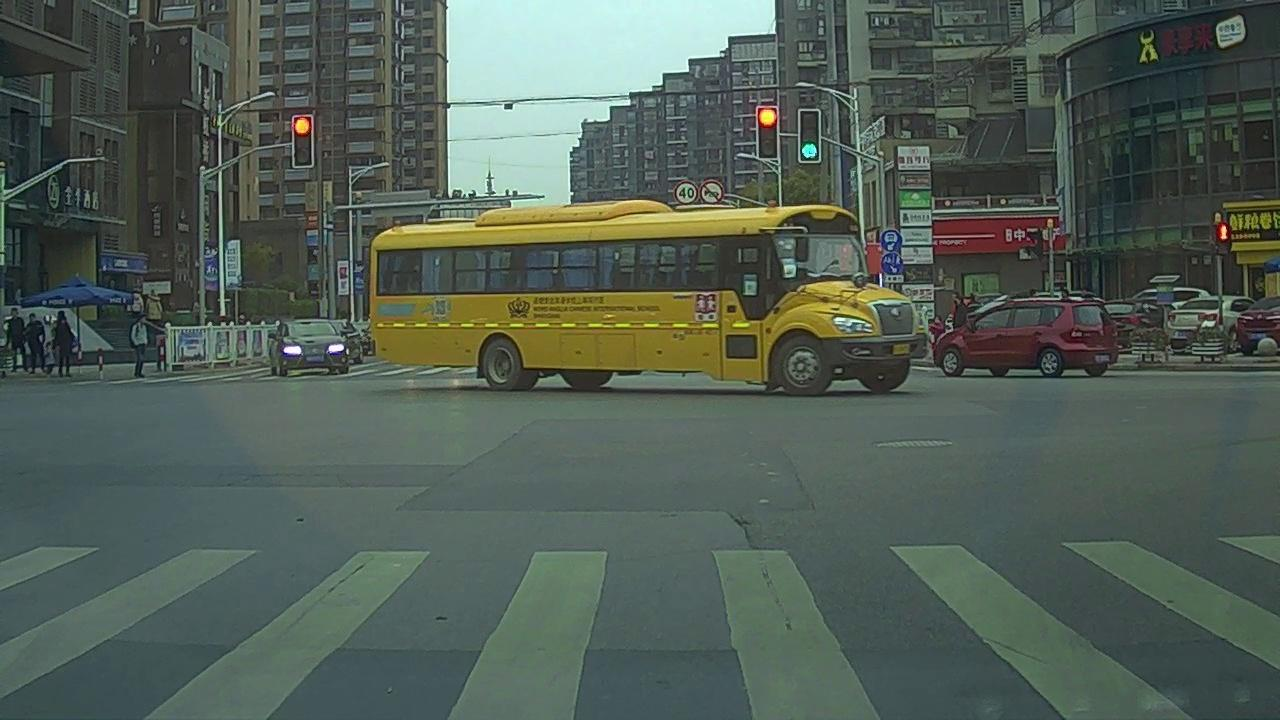traffic_light: (292, 117, 313, 164), (800, 111, 819, 162), (758, 107, 777, 156)
